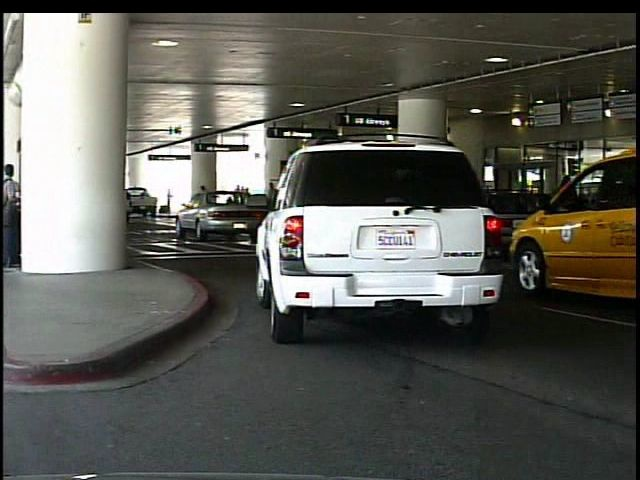person: (553, 172, 583, 258), (167, 188, 175, 215)
